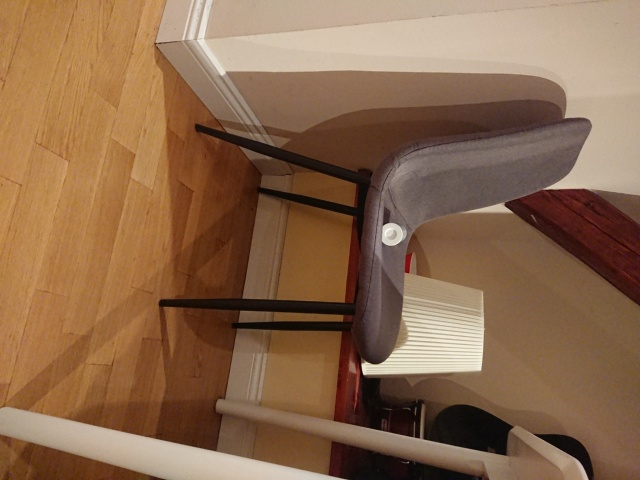Solana Pag Fine Sea Salt 250g: (379, 220, 410, 249)
